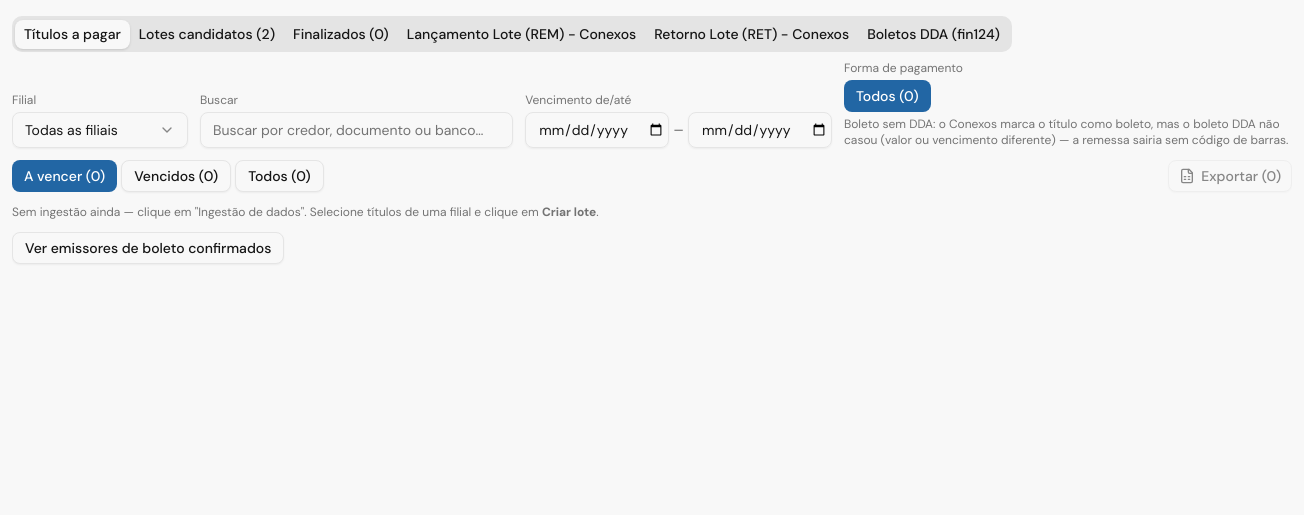
Test: SispagPage — prontidão dos lotes em rascunho (ADR-0076) › sem sispag:executar: sem finalizar em massa, o filtro continua
Click the tab "Lotes candidatos (2)". click: (207, 34)
box: [130,20,284,48]
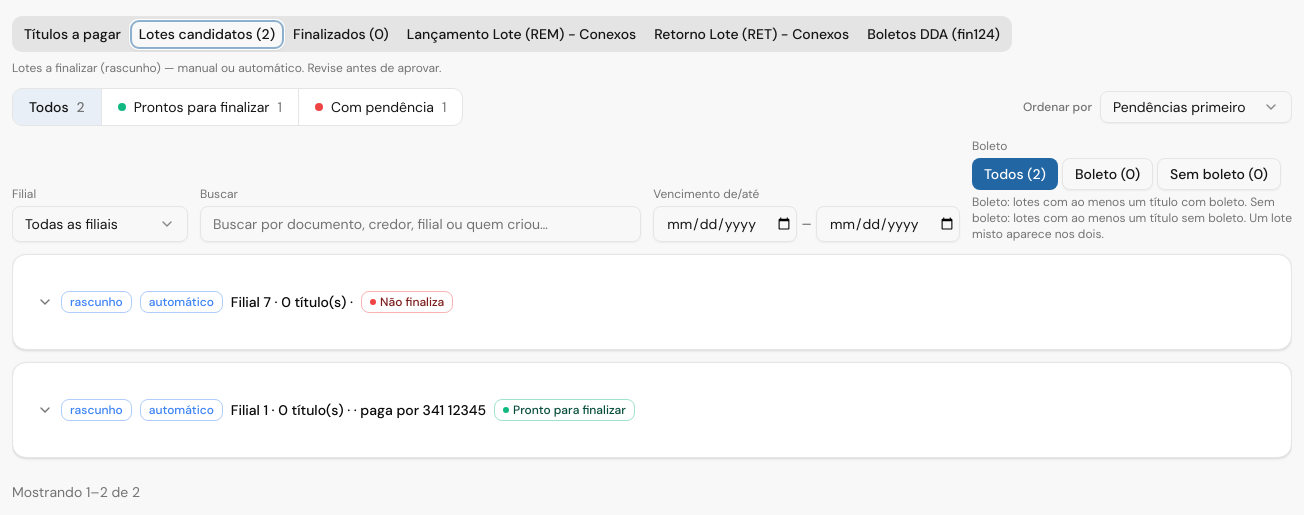
Expected: the element named "Situação do lote" is shown, [12,88,463,126]
